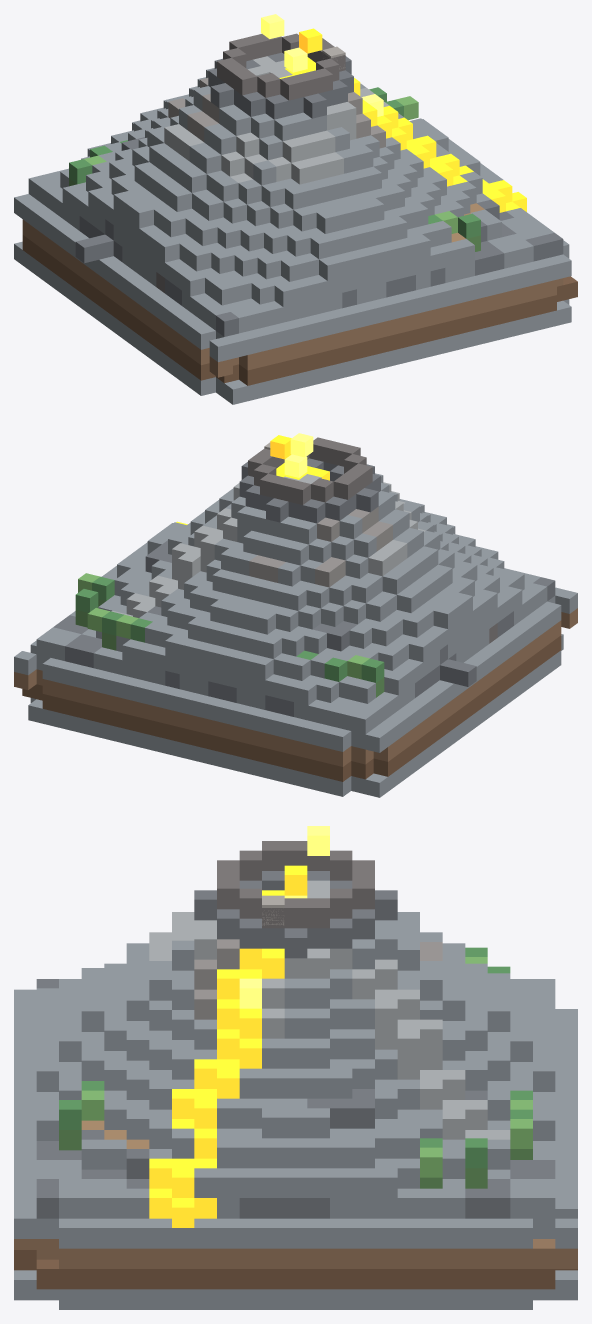
The model's file is volcano.glb.
The picture shows the model from 3 angles, top to bottom: view 1: azimuth 30°, elevation 25°; view 2: azimuth 150°, elevation 25°; view 3: azimuth 270°, elevation 25°; orthographic projection. The views are drawn at different scales.
Parts seen in each view (by area): view 1: VX_volcano_LOD0, ANIM_eruption_embers; view 2: VX_volcano_LOD0, ANIM_eruption_embers; view 3: VX_volcano_LOD0, ANIM_eruption_embers.
Boxes of the visible parts, left/top/right/bottom form: VX_volcano_LOD0: left=14, top=33, right=577, bottom=404; ANIM_eruption_embers: left=261, top=14, right=345, bottom=72; VX_volcano_LOD0: left=14, top=437, right=577, bottom=797; ANIM_eruption_embers: left=264, top=433, right=313, bottom=477; VX_volcano_LOD0: left=14, top=841, right=577, bottom=1309; ANIM_eruption_embers: left=262, top=826, right=329, bottom=925.
Size of the model in its own units: 5.72 by 3.77 by 5.5.
